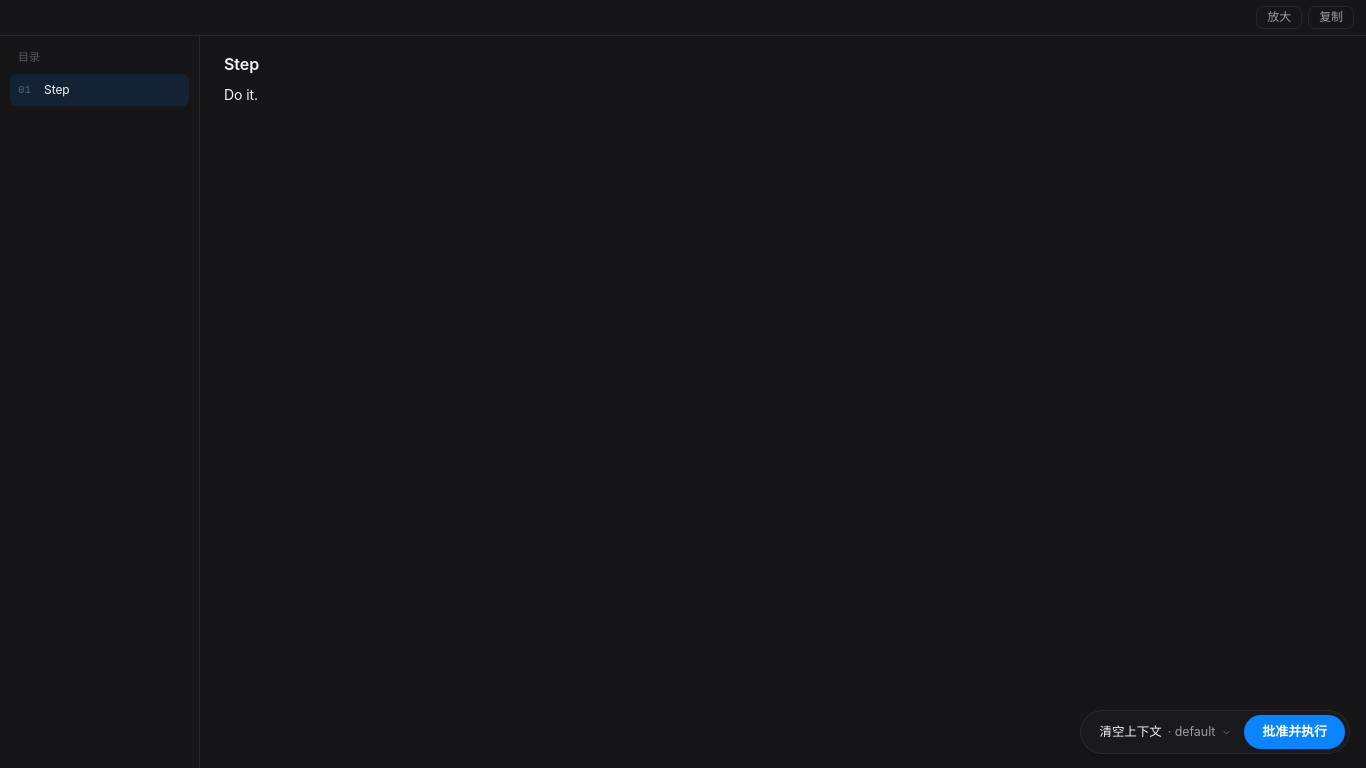
Test case: PlanPanel approval dock menu › closes on Escape and keeps working afterwards
Click the button titled "选择执行方式和模型".
click(1164, 732)  # box left=1086, top=715, right=1242, bottom=749
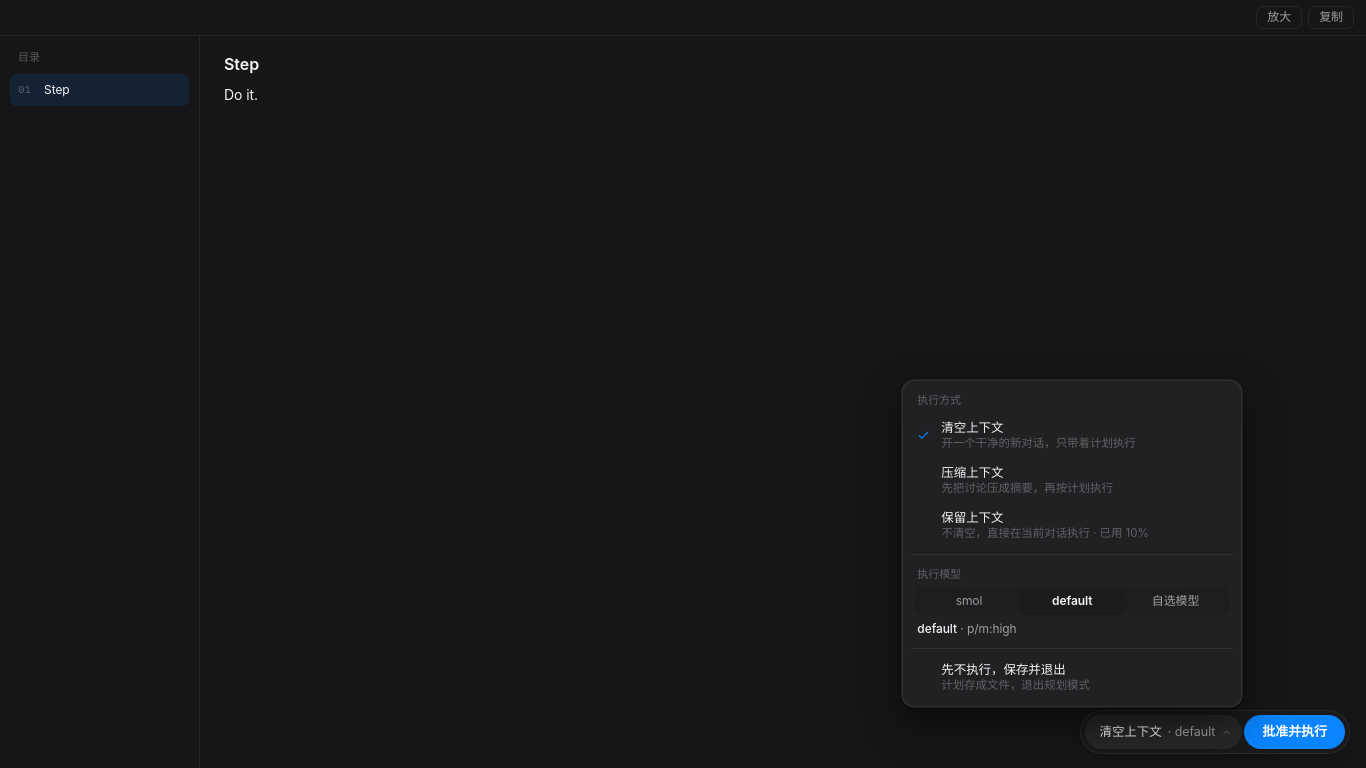
Press Escape
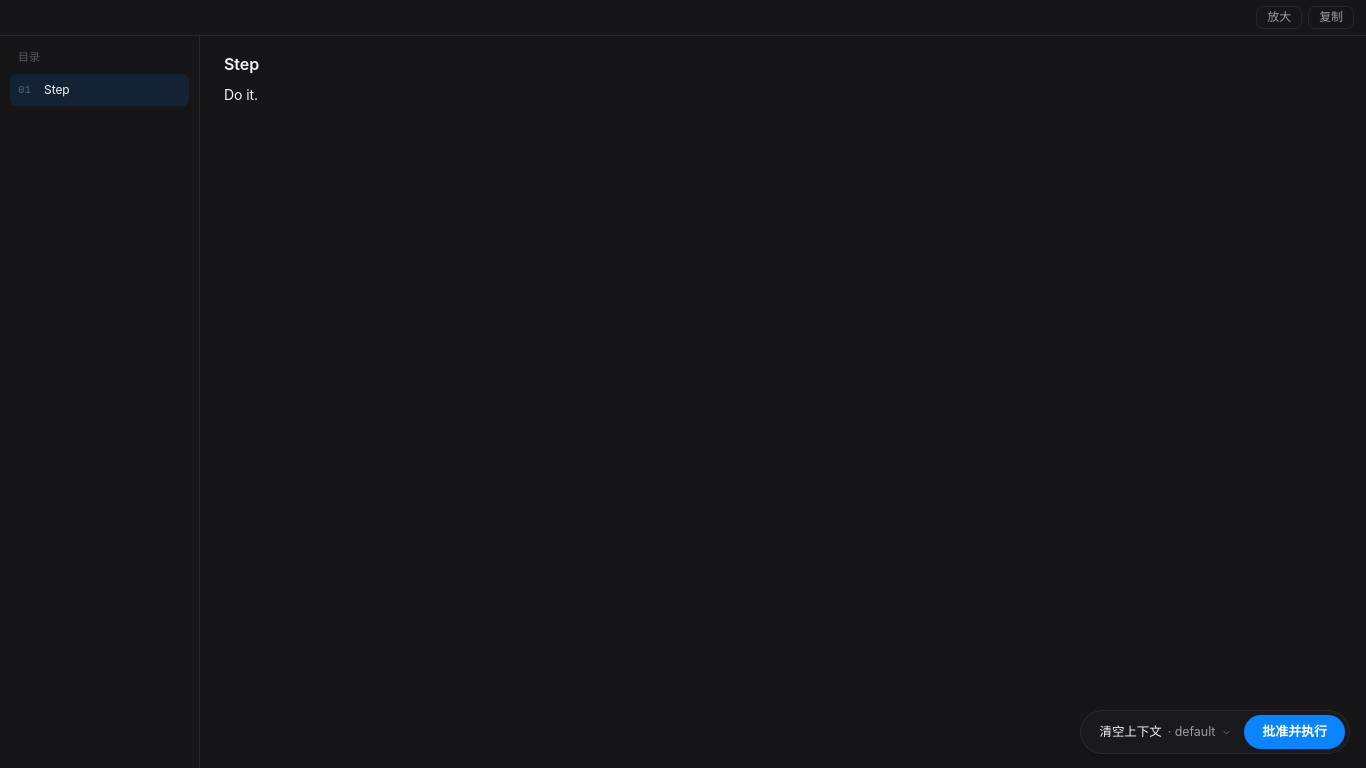
Result: the menu is gone
Click the button titled "选择执行方式和模型".
click(1164, 732)  # box left=1086, top=715, right=1242, bottom=749
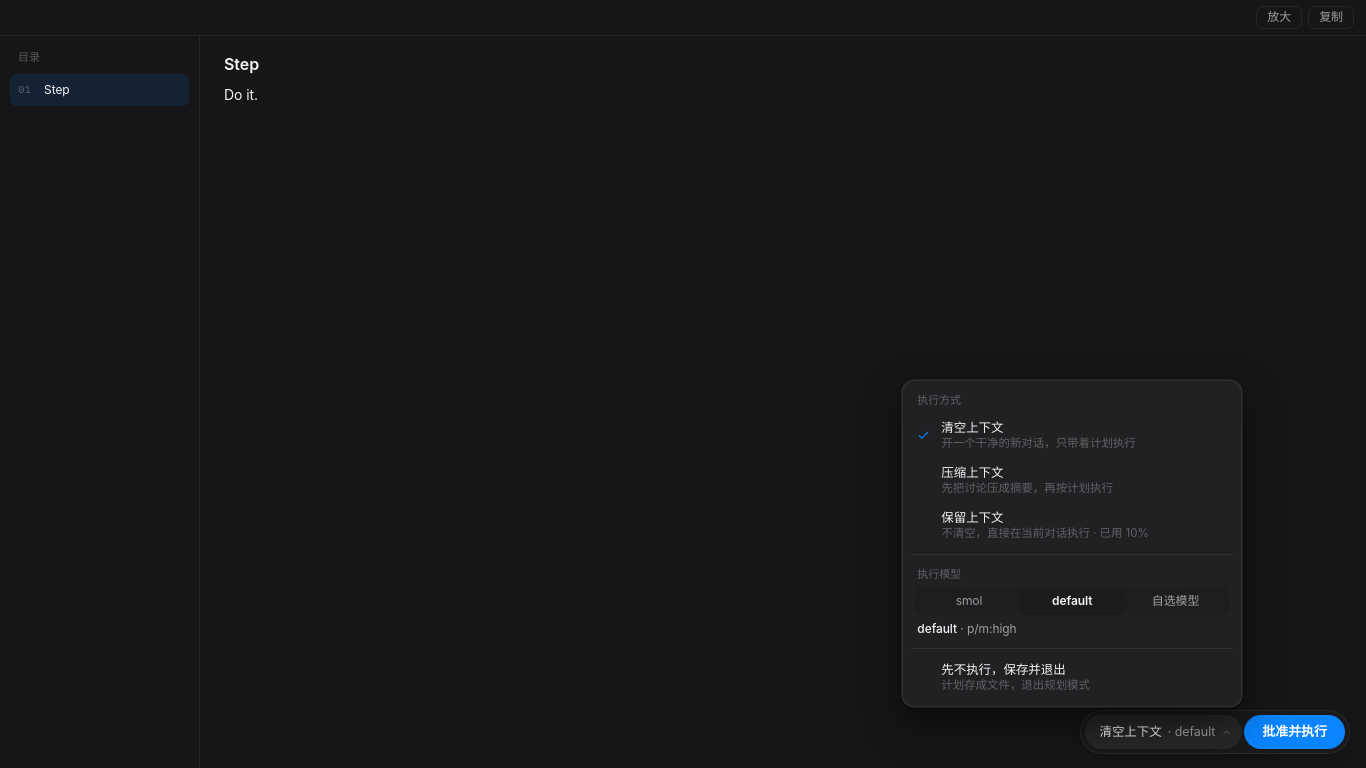
Result: the menu is shown at left=902, top=380, right=1242, bottom=707
